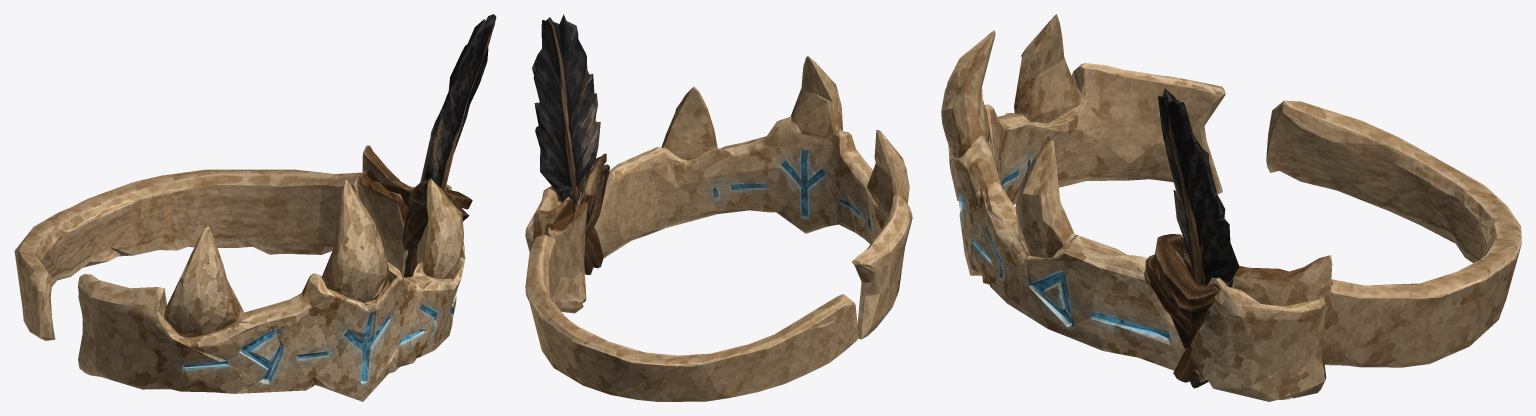
The model's file is HatBoneCrown.fbx.
The picture shows the model from 3 angles, left to right: view 1: azimuth 30°, elevation 25°; view 2: azimuth 150°, elevation 25°; view 3: azimuth 270°, elevation 25°; orthographic projection. The views are drawn at different scales.
Parts seen in each view (by area): view 1: output_unwrapped; view 2: output_unwrapped; view 3: output_unwrapped.
Boxes of the visible parts, x1=… form: output_unwrapped: x1=14, y1=14, x2=496, y2=401; output_unwrapped: x1=525, y1=14, x2=912, y2=401; output_unwrapped: x1=941, y1=14, x2=1521, y2=401.
Size of the model in its own units: 88.62 by 61.92 by 95.41.
Materials: 1 (1 with a texture image).
